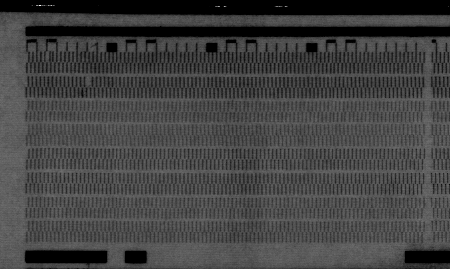Broken hole: (83, 75, 95, 87), (43, 51, 56, 62)
